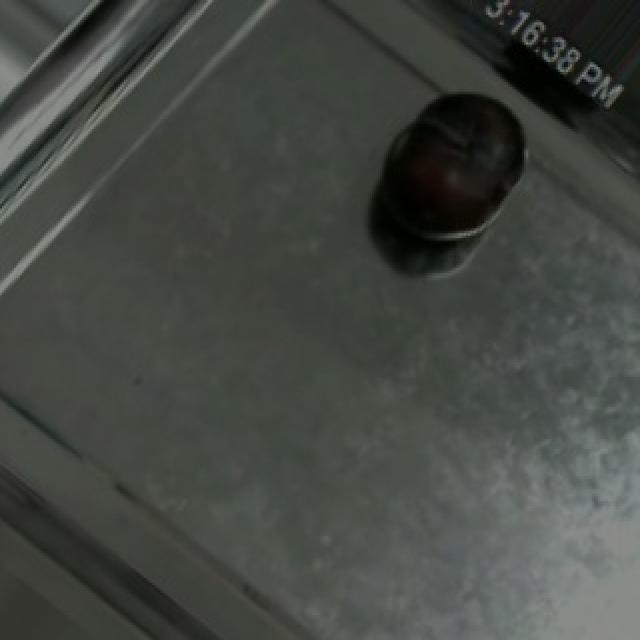Fruit: (362, 67, 554, 260)
